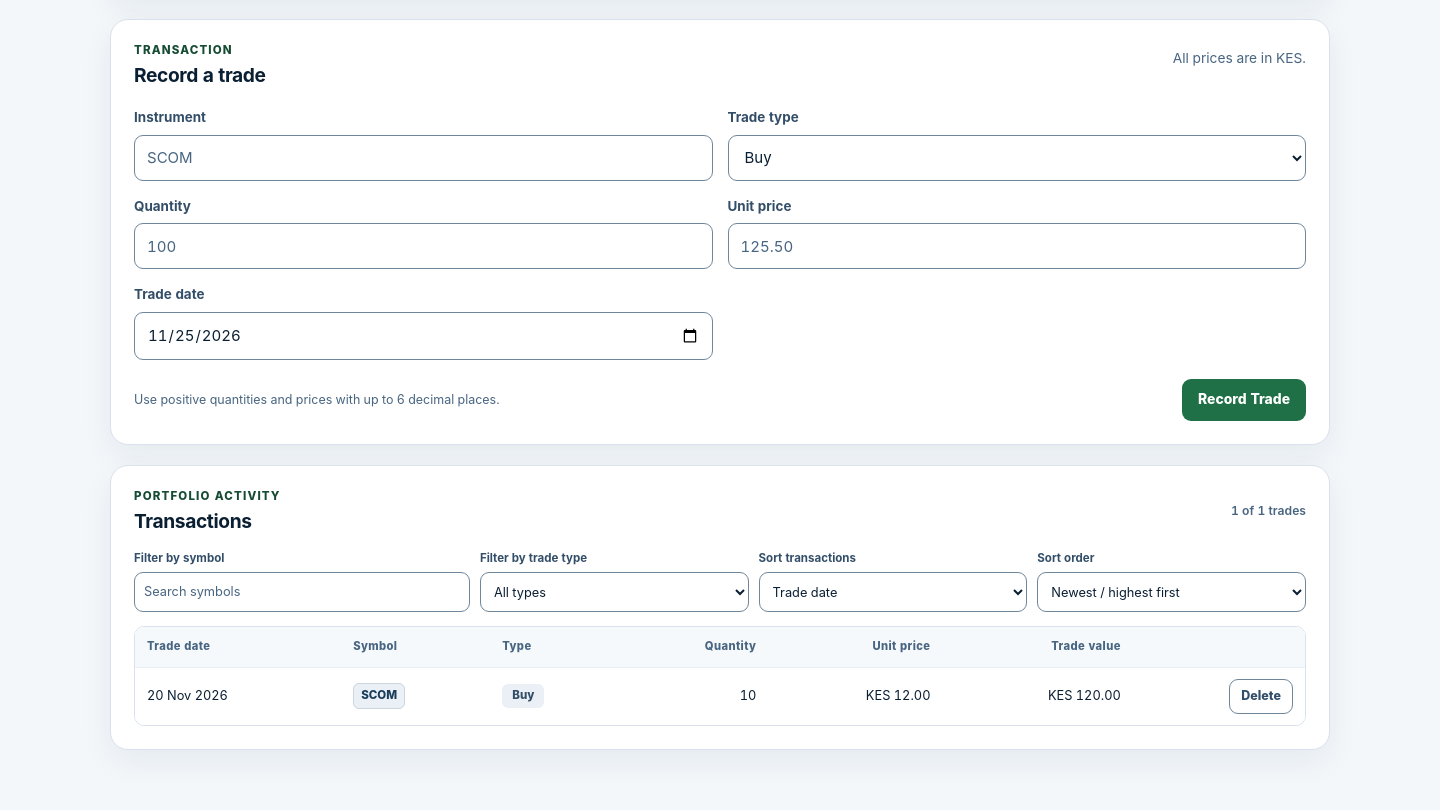
Test: PortfolioPage trade mutations › keeps a stable non-body focus target when deleting the final trade
(page scrolled)
Click the button with aria-label "Delete buy SCOM trade": click(1261, 696) [1229,679,1293,714]
(page scrolled)
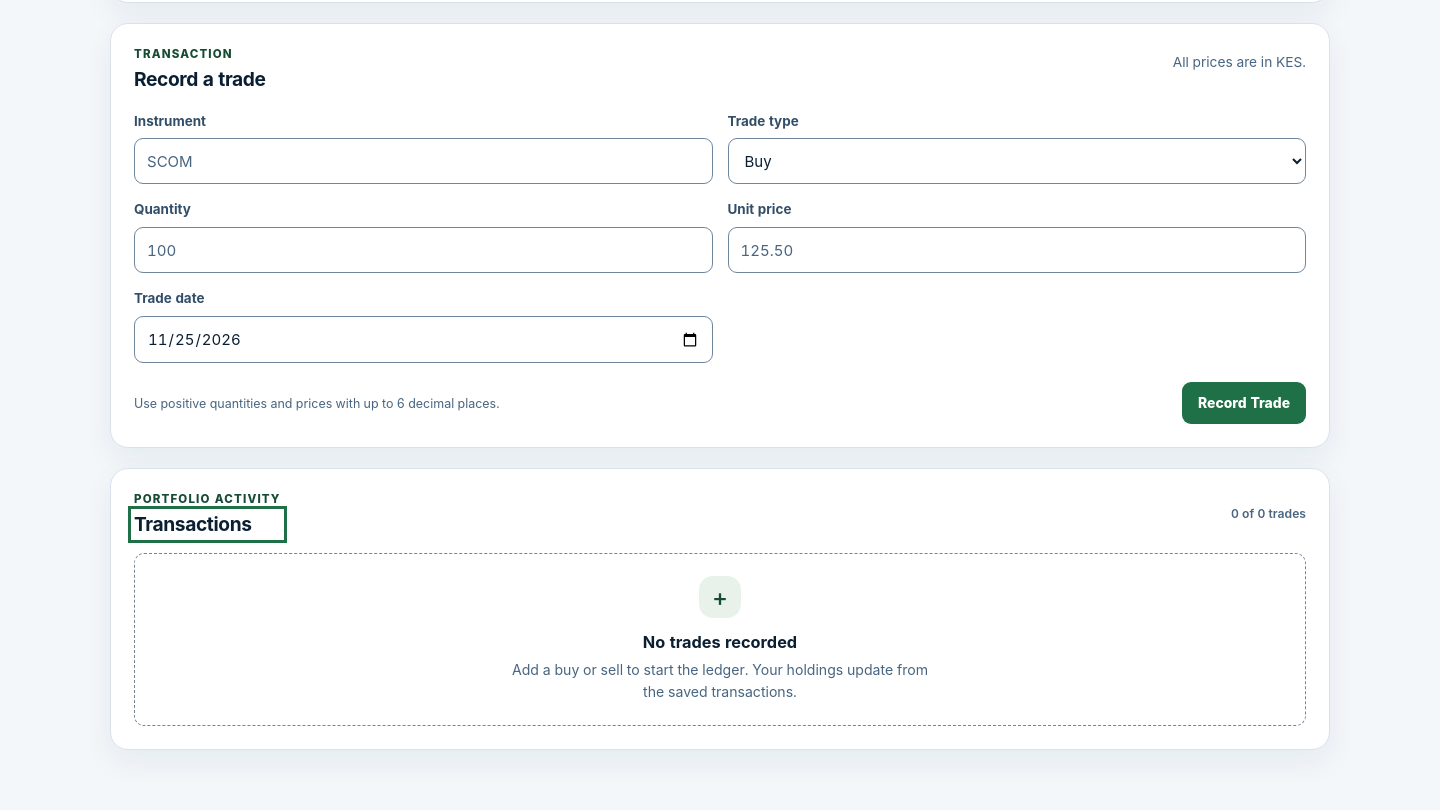
Check: the heading "Transactions" is shown, box [134,512,252,536]
Check: the heading "No trades recorded" is shown, box [643,632,797,652]
